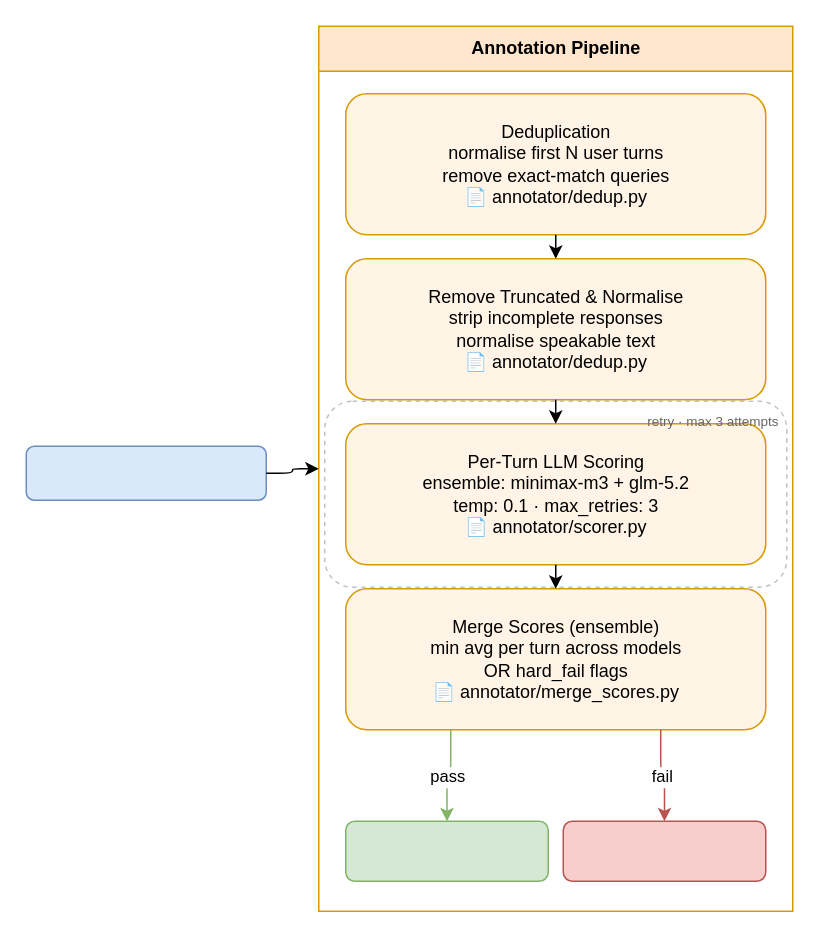
Some shapes in this 819 by 938 pixel diagram are drawn without their labels. The shapes that lost their labels are listed below. From the top down, each one's centre as x and y in pixels, then its label:
At (145,472): "annotator_rubric_blocks.yaml".
At (446,850): "Pass (avg ≥ 8.0 & no hard_fail)".
At (664,850): "Fail (<8.0 or hard_fail)".
